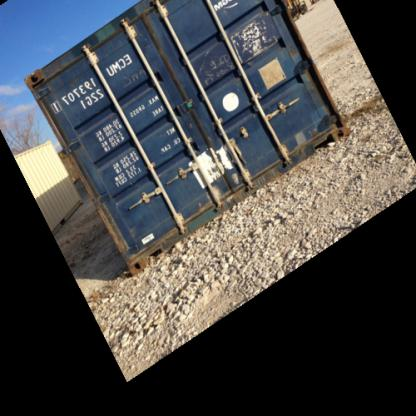Damage: (182, 132, 250, 184), (234, 22, 282, 61), (140, 10, 173, 66), (57, 143, 94, 192), (98, 200, 131, 253), (292, 113, 340, 148), (194, 41, 232, 82), (23, 65, 49, 101)
